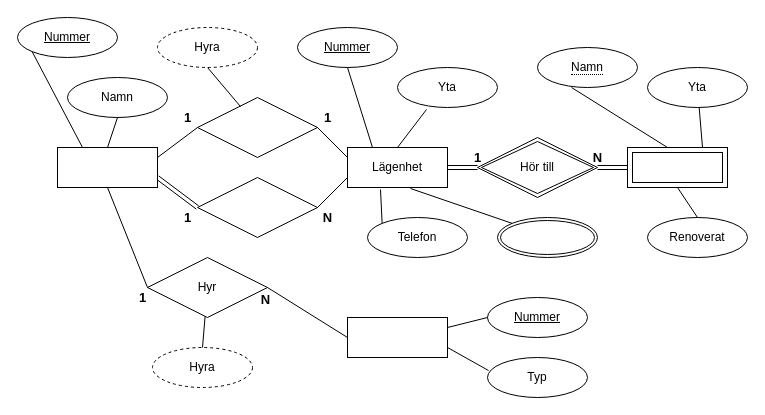
Image size: 765x415. Some labels were removed from this diagram. The shapes that lost their labels are listed below. From the top down, each one's centre as x and y in pixels, then its label:
At (x=257, y=127): "Har kontrakt".
At (x=107, y=167): "Person".
At (x=677, y=167): "Rum".
At (x=257, y=207): "Bor".
At (x=547, y=237): "Förrådsnr".
At (x=397, y=337): "Parkering".
